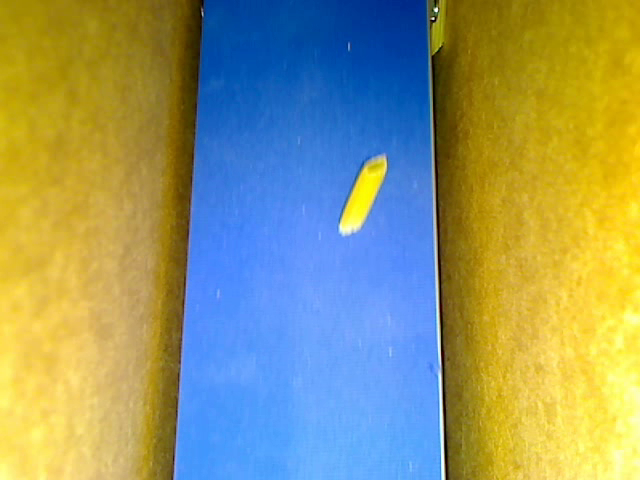penne: (336, 150, 389, 237), (425, 1, 448, 57)
